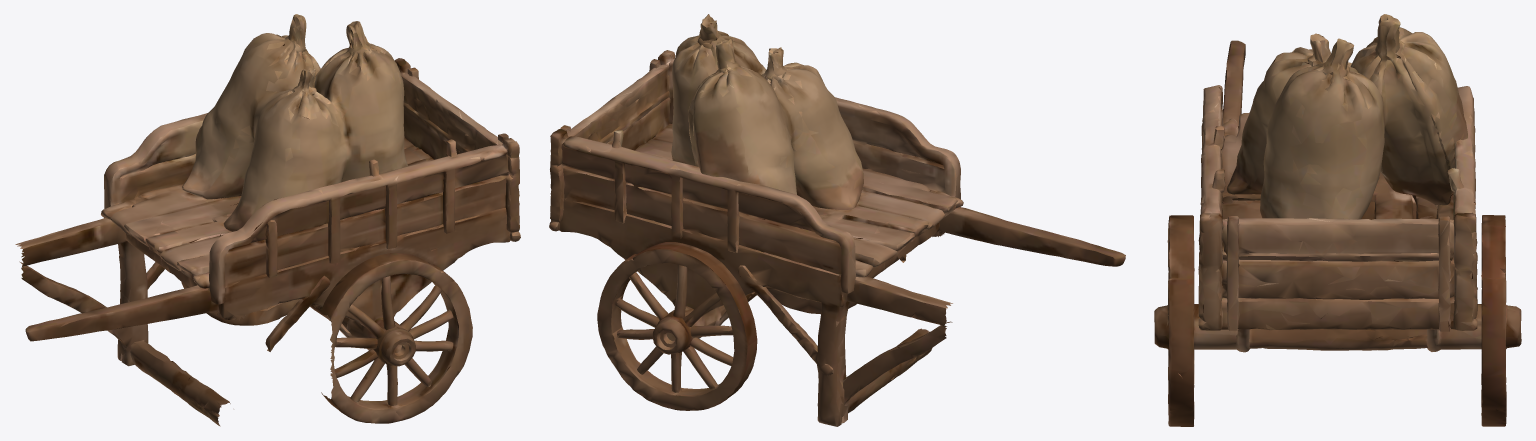
Rendered from HandCart.glb.
3 renders of one model, left to right at view 1: azimuth 30°, elevation 25°; view 2: azimuth 150°, elevation 25°; view 3: azimuth 270°, elevation 25°, orthographic. The views are drawn at different scales.
Parts seen in each view (by area): view 1: HandCart; view 2: HandCart; view 3: HandCart.
Boxes of the visible parts, left/top/right/bottom form: HandCart: left=15, top=14, right=520, bottom=426; HandCart: left=549, top=14, right=1125, bottom=426; HandCart: left=1154, top=14, right=1521, bottom=426.
Size of the model in its own units: 3.12 by 2.09 by 1.76.
Materials: 1 (1 with a texture image).
